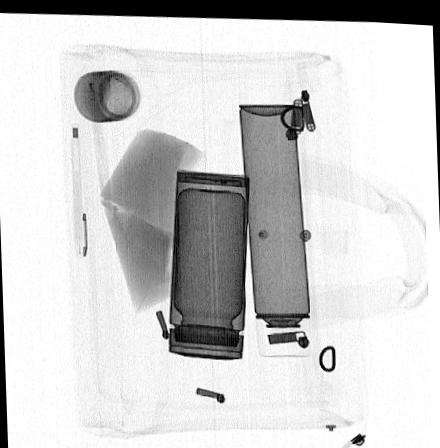Sprayer: (238, 100, 311, 352)
